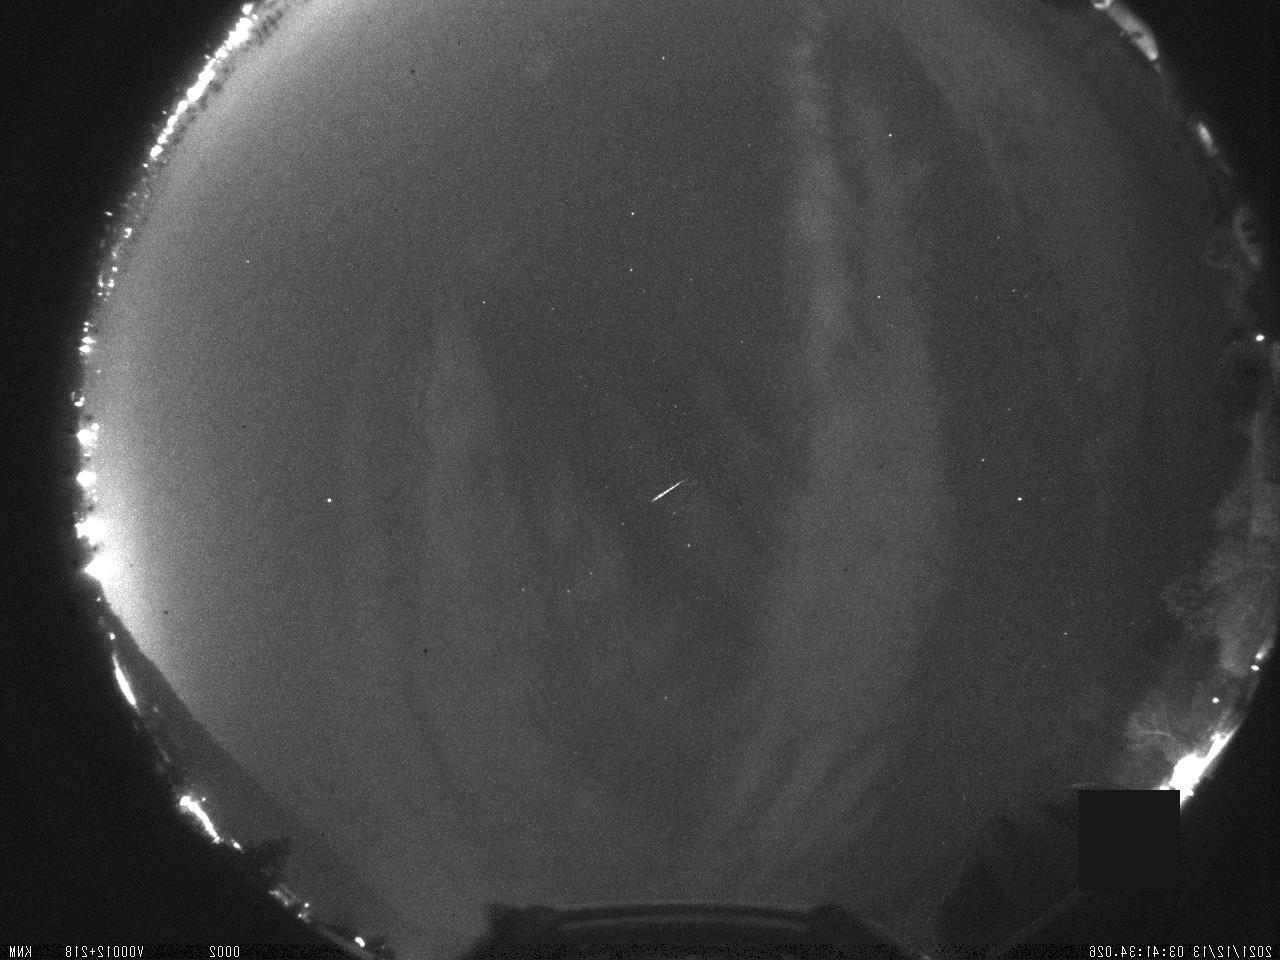meteor: (637, 471, 689, 511)
